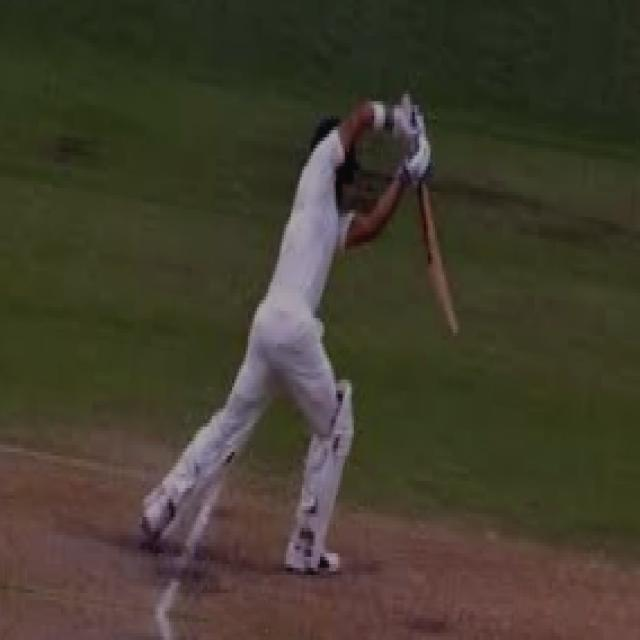toe: (439, 293, 461, 338)
